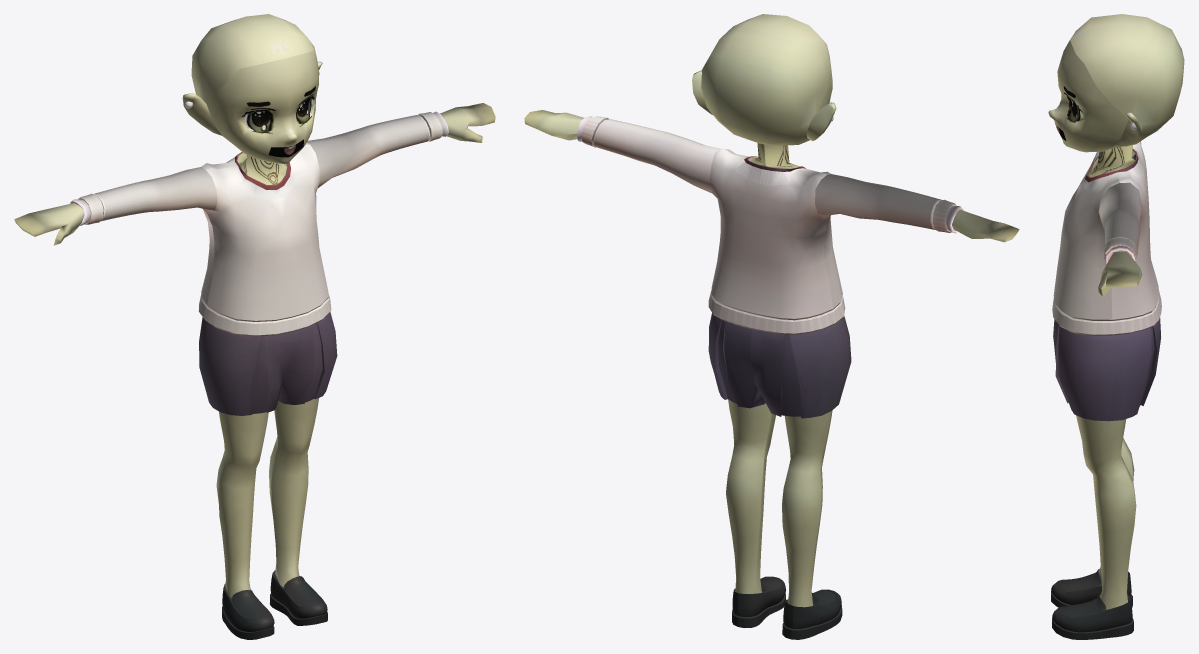
Rendered from tpose-pre-armature.fbx.
3 renders of one model, left to right at view 1: azimuth 30°, elevation 25°; view 2: azimuth 150°, elevation 25°; view 3: azimuth 270°, elevation 25°, orthographic. The views are drawn at different scales.
Visible parts, largest first — view 1: Body_36338, Body_36338.001; view 2: Body_36338; view 3: Body_36338.
Part boxes in pixels (left/top/right/bottom): Body_36338: left=14, top=14, right=495, bottom=639; Body_36338.001: left=245, top=98, right=312, bottom=132; Body_36338: left=524, top=14, right=1019, bottom=639; Body_36338: left=1048, top=14, right=1184, bottom=639.
Size of the model in its own units: 199 by 236 by 48.85.
2 materials, 2 textured.
